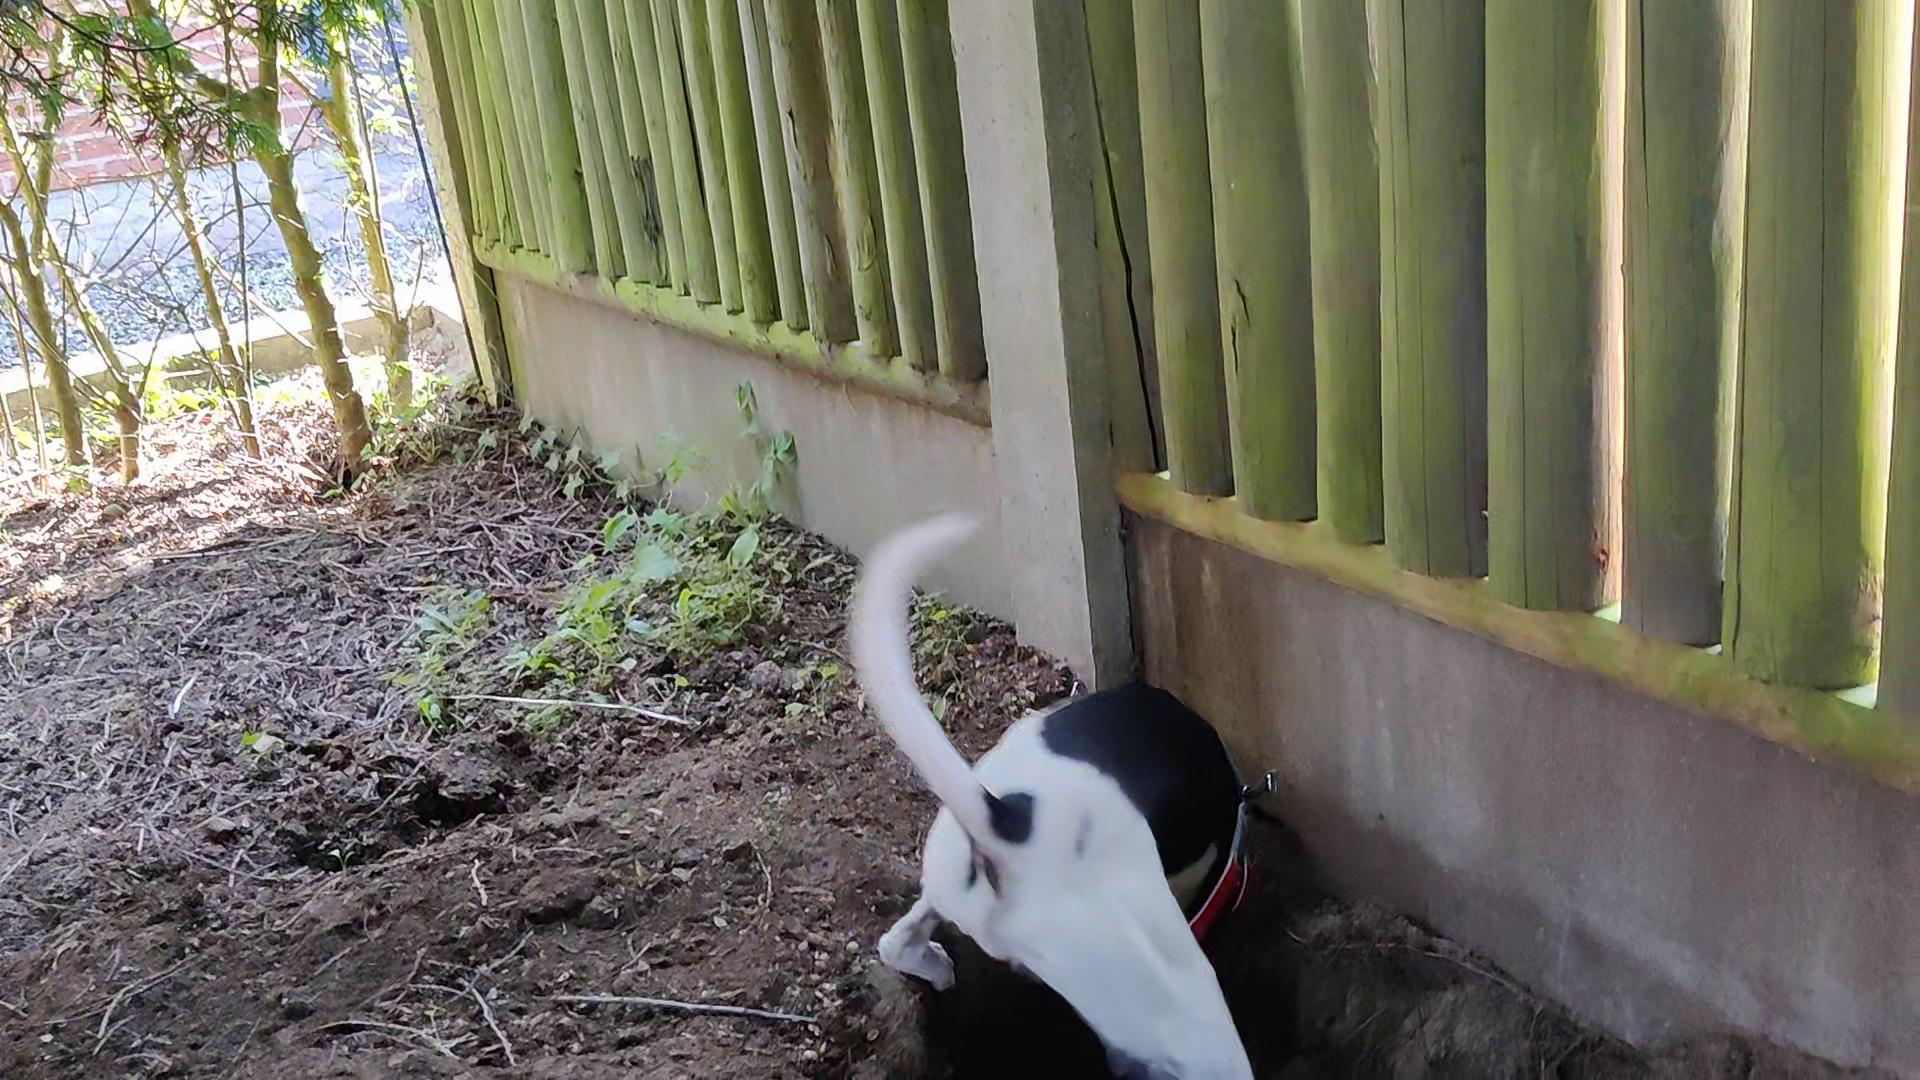Dog: (839, 488, 1319, 1079)
